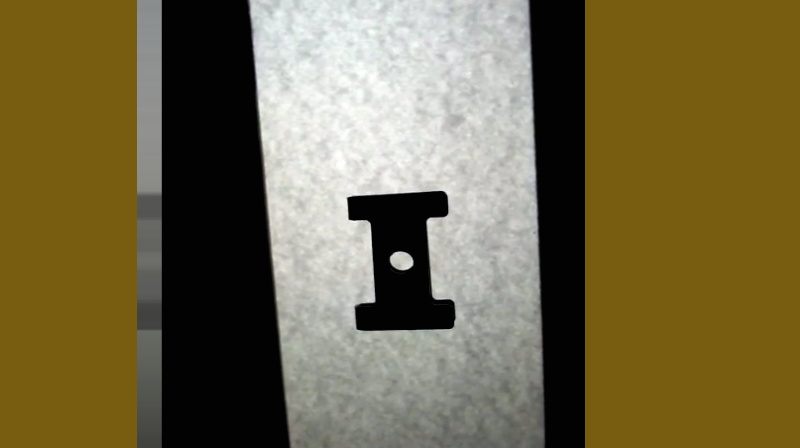O002: (339, 185, 461, 332)
